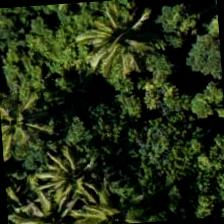Kelapa_Sawit: (27, 124, 123, 220), (60, 6, 156, 102), (5, 177, 98, 223)
